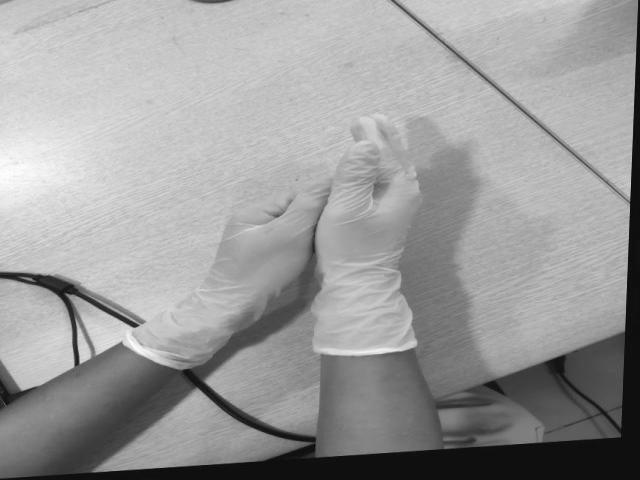gloved: (198, 174, 328, 329), (317, 117, 420, 295)
